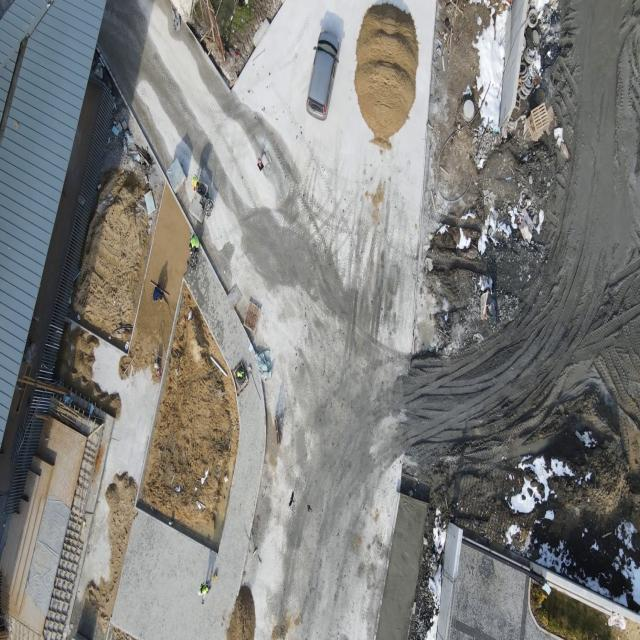p3rson: (197, 580, 211, 596), (189, 233, 199, 253), (153, 284, 162, 300), (192, 176, 200, 192)
